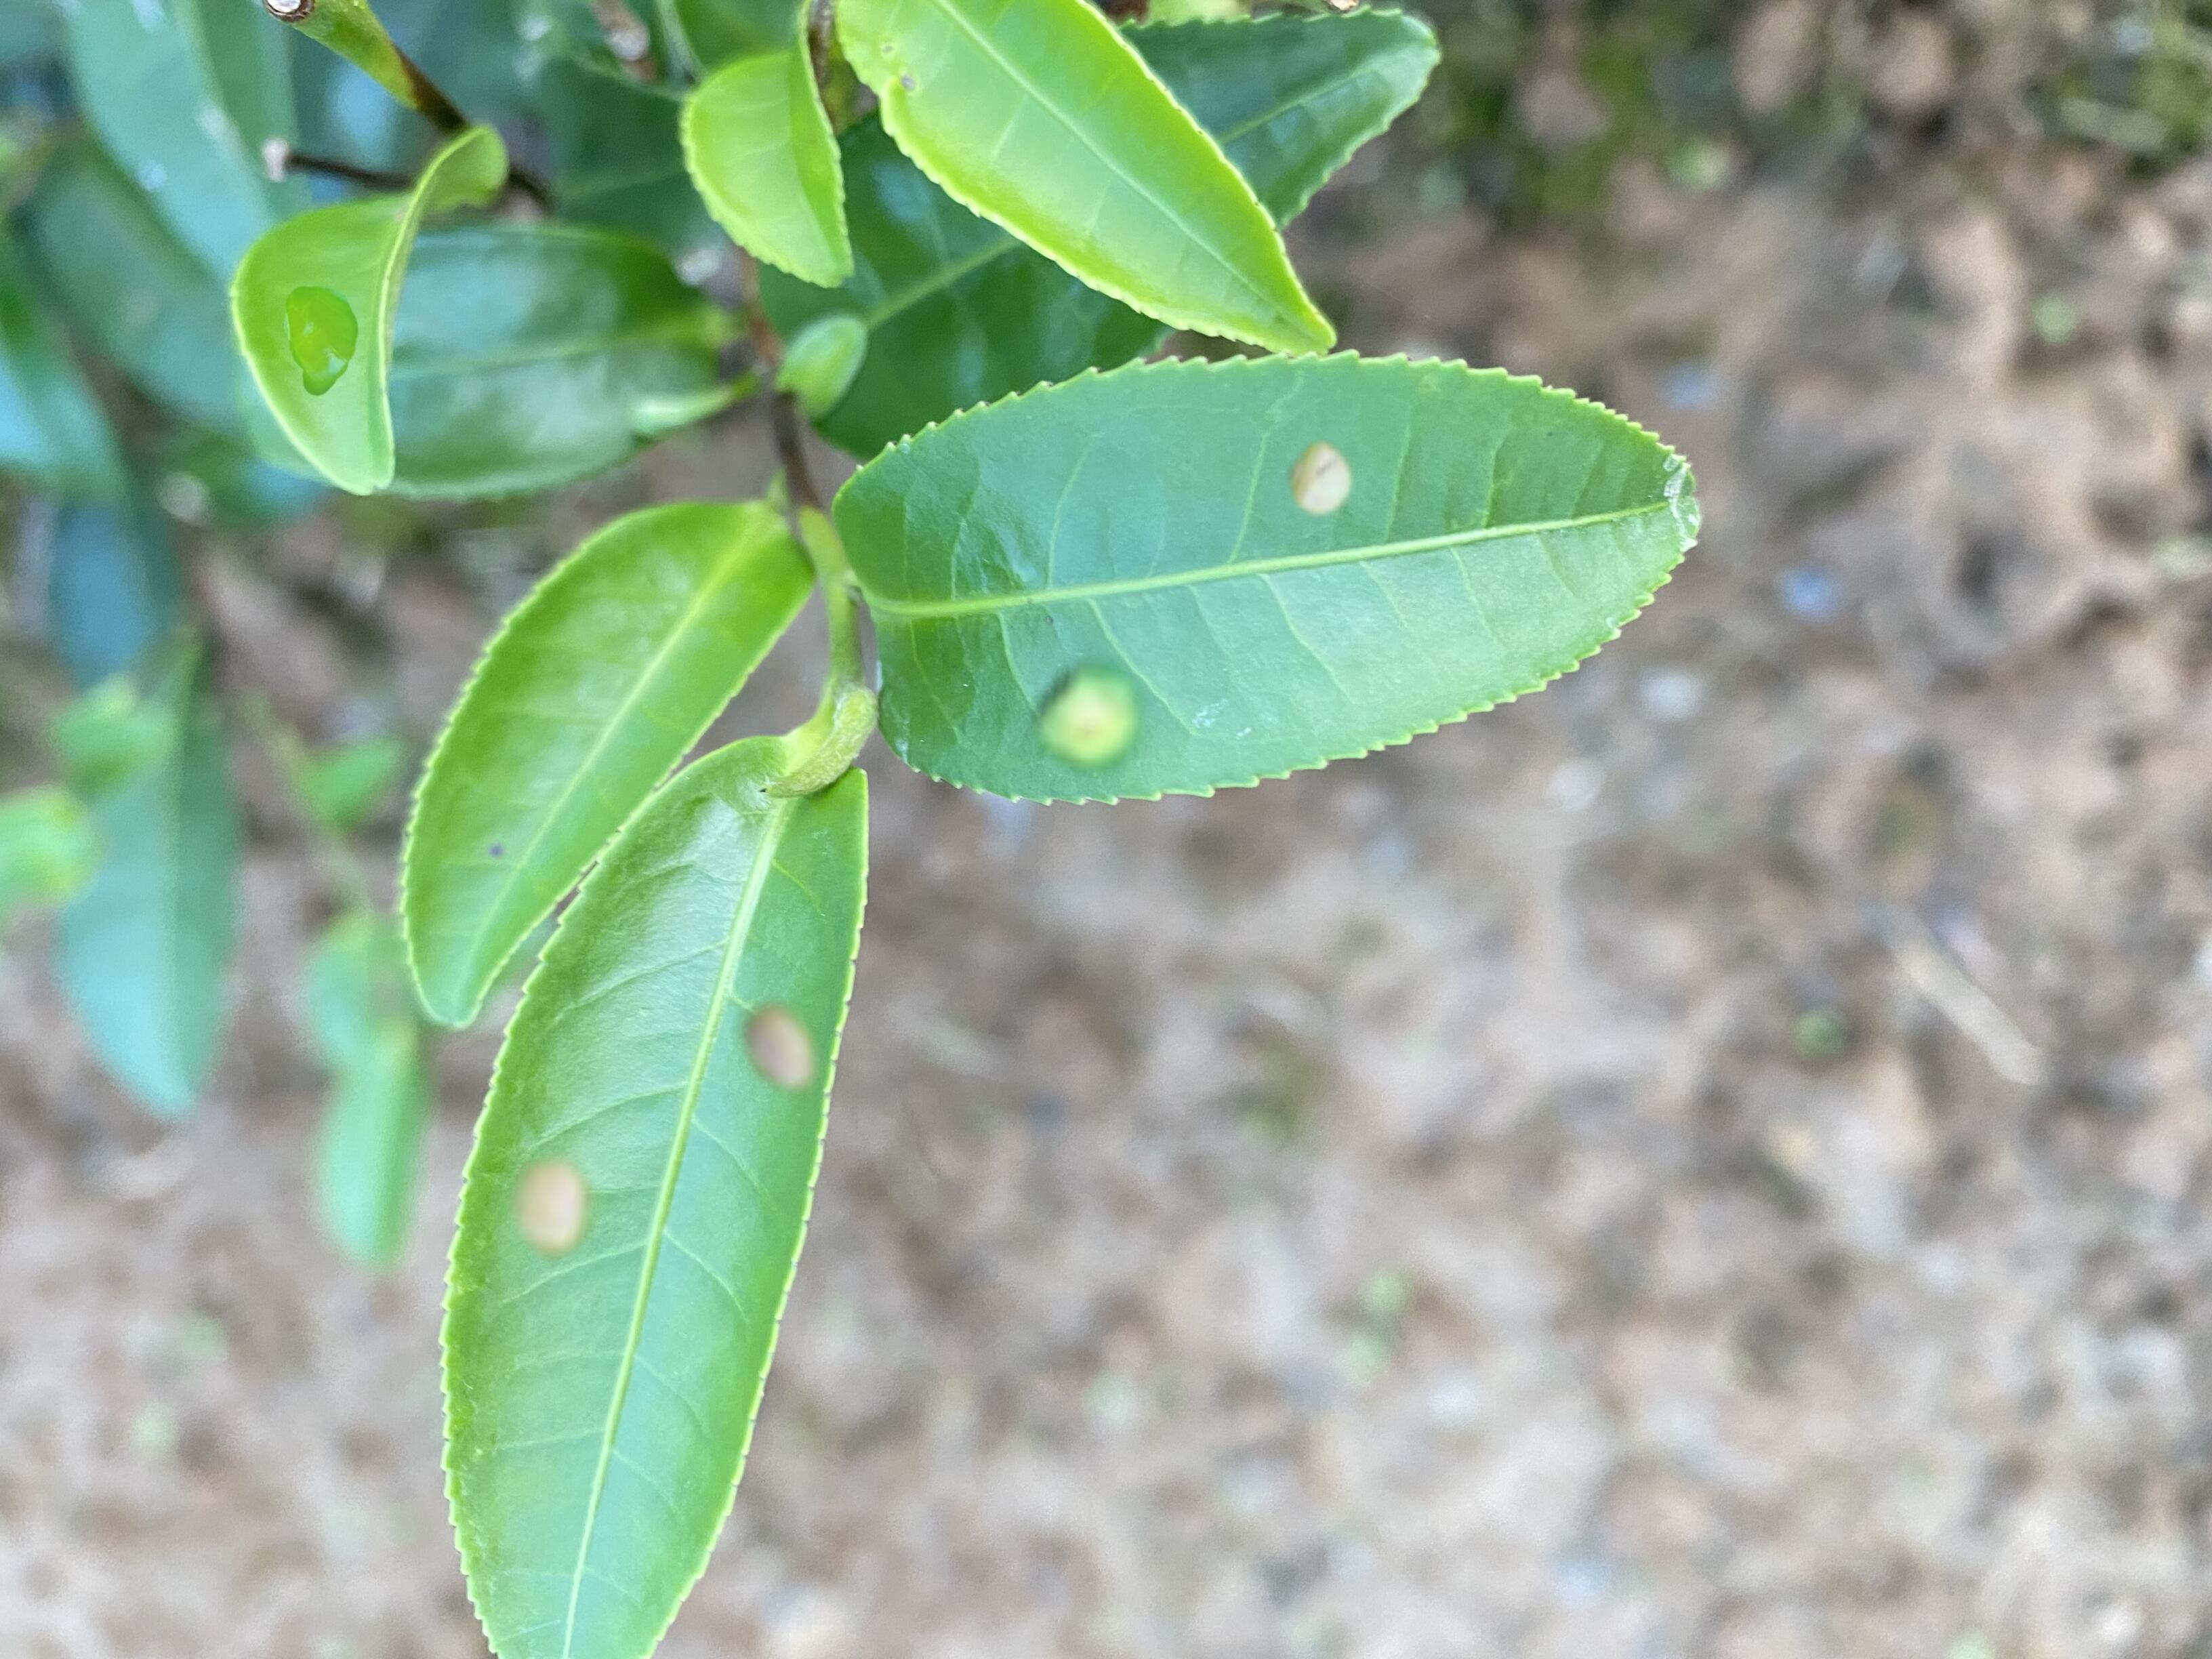chabing_high: (829, 349, 1709, 807), (437, 732, 874, 1652)
chabing_low: (228, 124, 510, 495)
healthy: (676, 0, 857, 288)
tanju_low: (395, 497, 815, 1033), (831, 2, 1336, 357)
